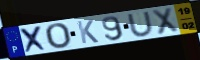9: (100, 15, 125, 42)
K: (76, 19, 101, 45)
O: (43, 22, 73, 50)
U: (126, 10, 156, 38)
X: (19, 25, 50, 55), (150, 6, 180, 36)
